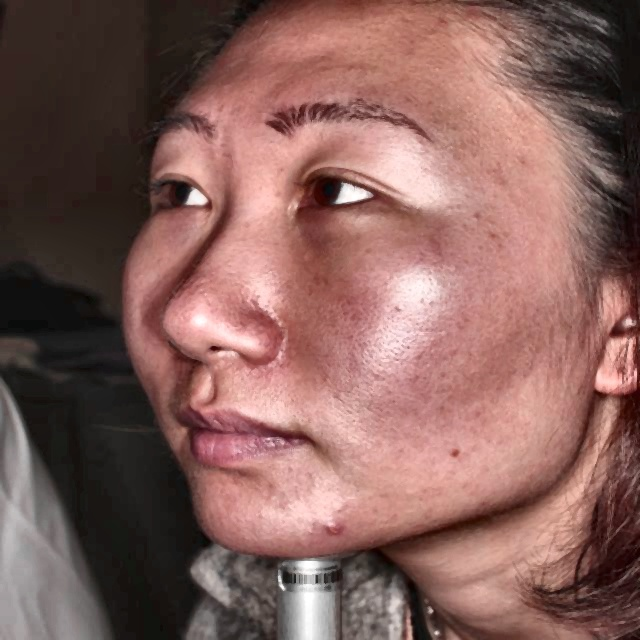comedone: (315, 516, 344, 542)
